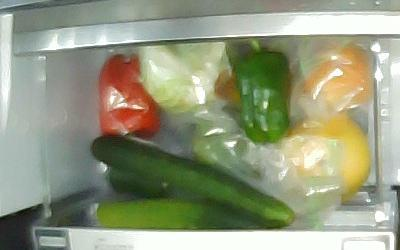broccoli_vinyl: (193, 119, 253, 177)
cucumber: (91, 135, 298, 228), (96, 198, 270, 229)
grapefruit_vinyl: (281, 113, 371, 203)
lettuce_vinyl: (137, 41, 239, 117)
paprika: (232, 39, 289, 145), (107, 164, 173, 198)
paprika_vinyl: (98, 53, 161, 141)
peach_vinyl: (305, 45, 373, 107)
